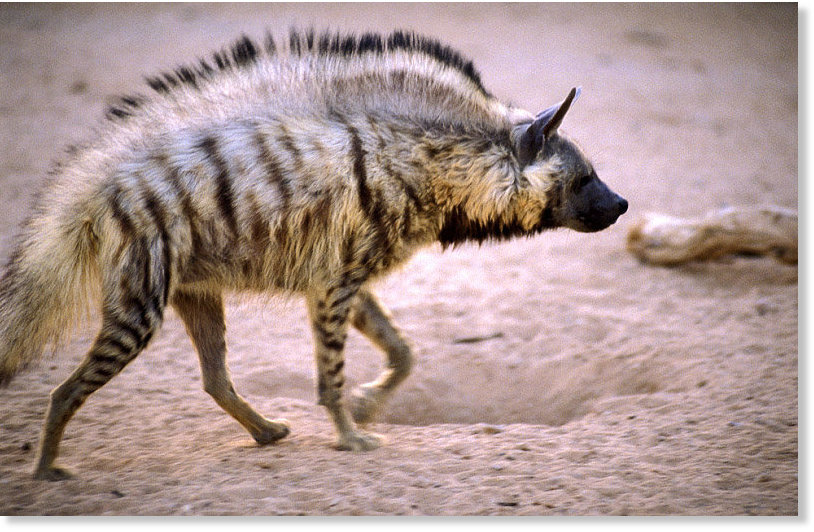hyena: (1, 28, 625, 477)
